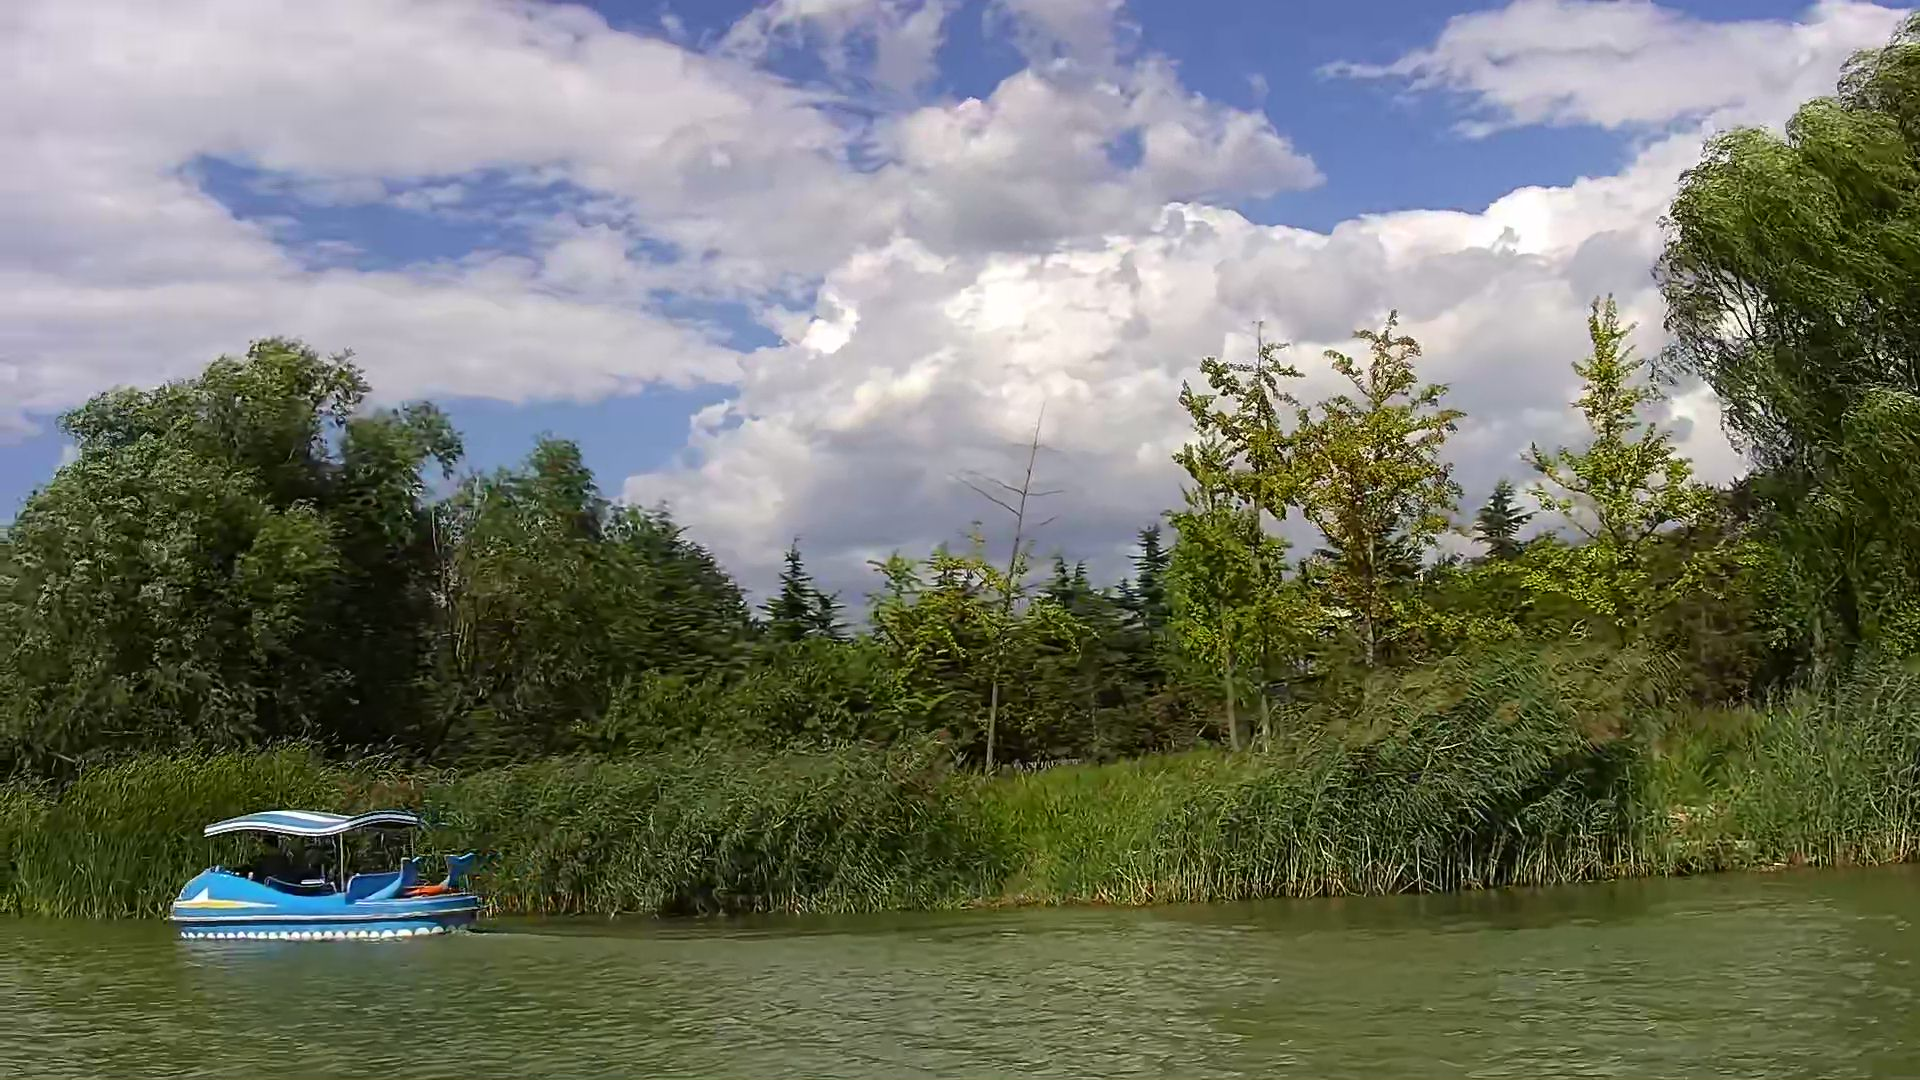boat: (171, 811, 477, 945)
